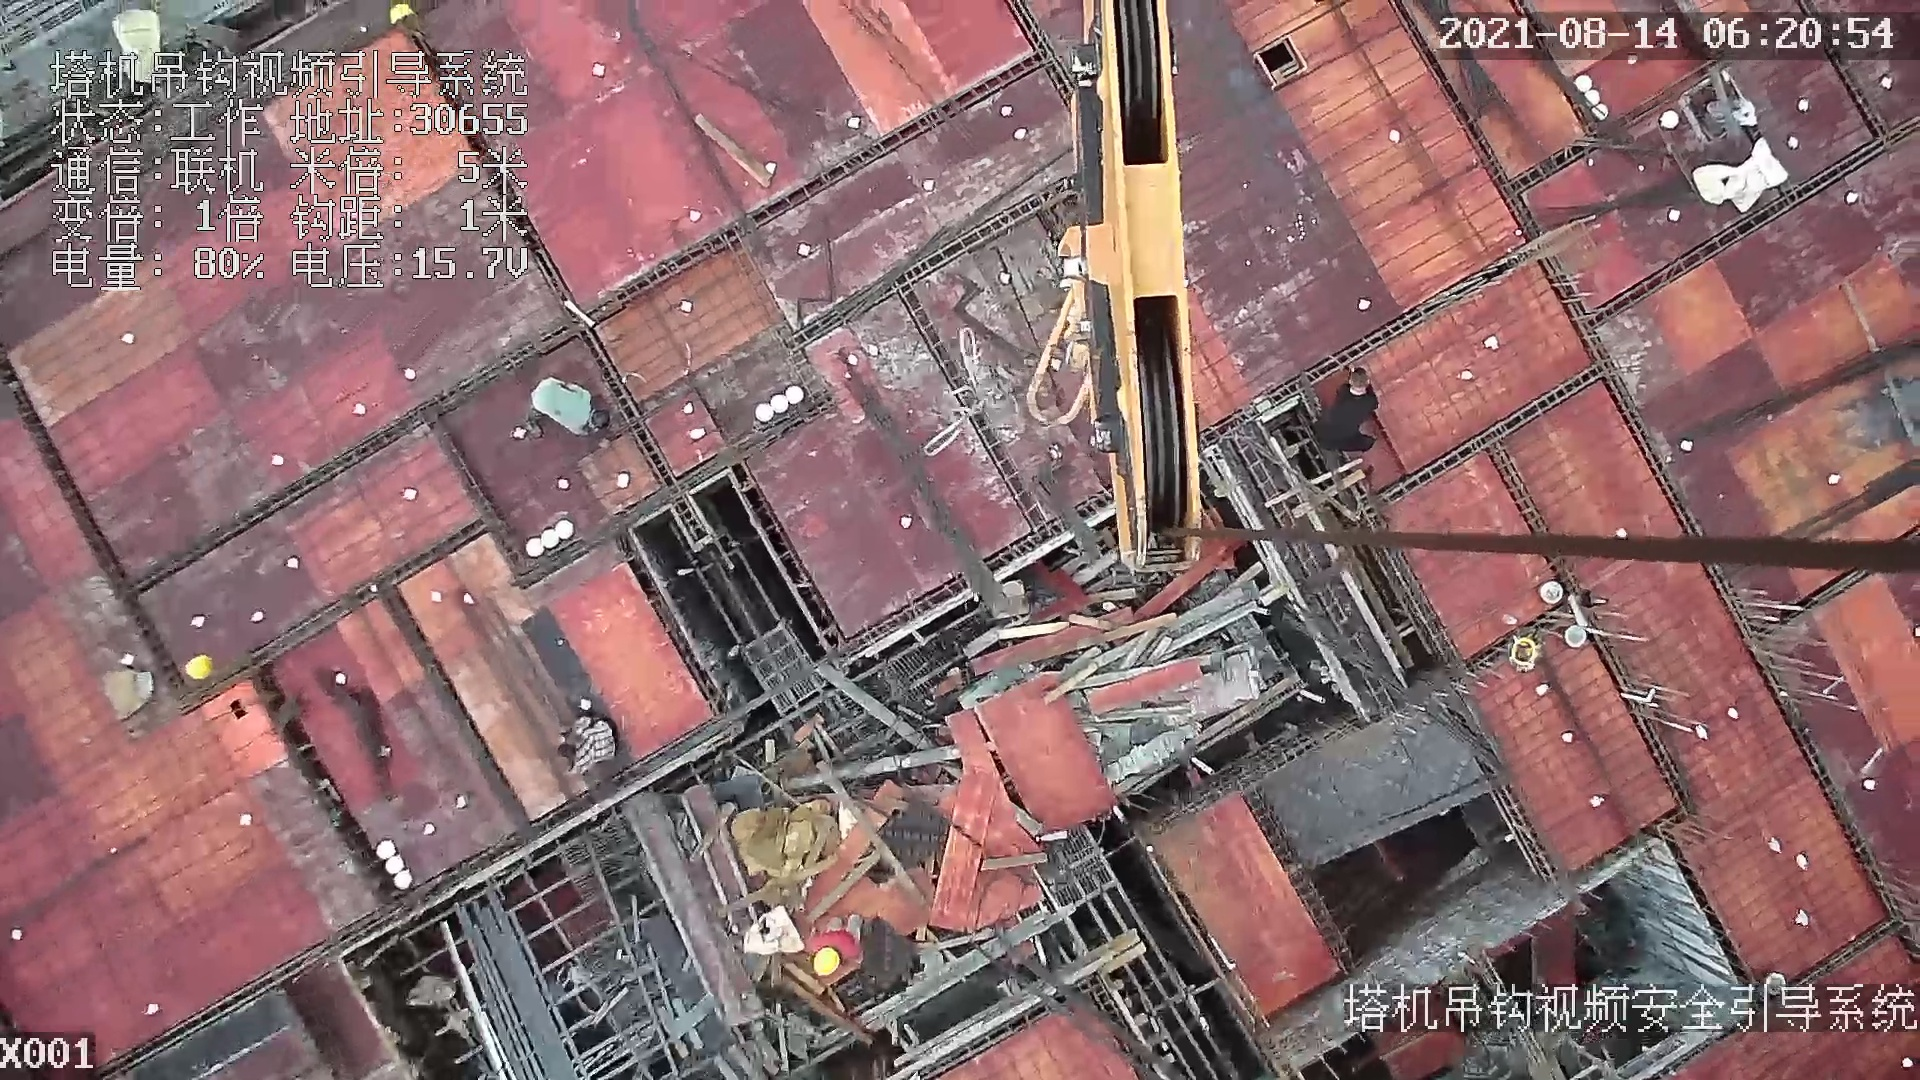helmet: (181, 652, 217, 686), (812, 944, 841, 978)
person: (1314, 366, 1381, 452), (525, 378, 610, 441), (558, 710, 621, 777), (804, 913, 866, 980)
